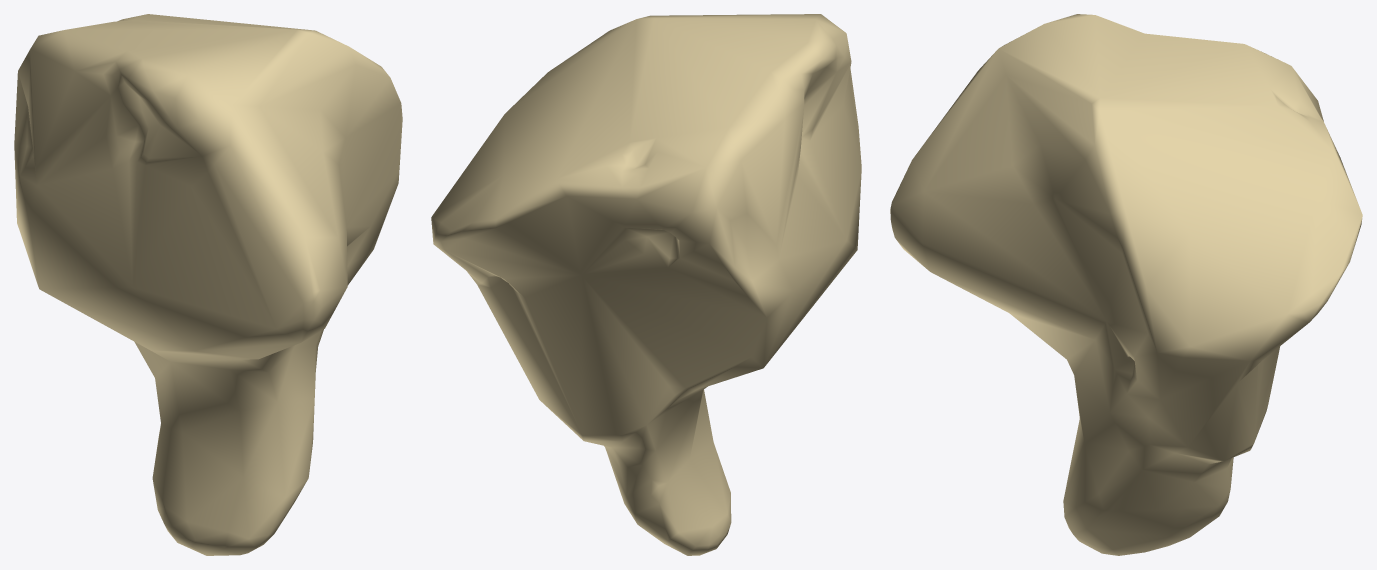
The picture shows the model from 3 angles, left to right: view 1: azimuth 30°, elevation 25°; view 2: azimuth 150°, elevation 25°; view 3: azimuth 270°, elevation 25°; orthographic projection. The views are drawn at different scales.
Parts seen in each view (by area): view 1: 右侧钩骨; view 2: 右侧钩骨; view 3: 右侧钩骨.
Boxes of the visible parts, <box> form: 右侧钩骨: <box>14,14,402,555</box>; 右侧钩骨: <box>431,14,861,555</box>; 右侧钩骨: <box>890,14,1362,555</box>.
Size of the model in its own units: 0.0237 by 0.0345 by 0.0298.
